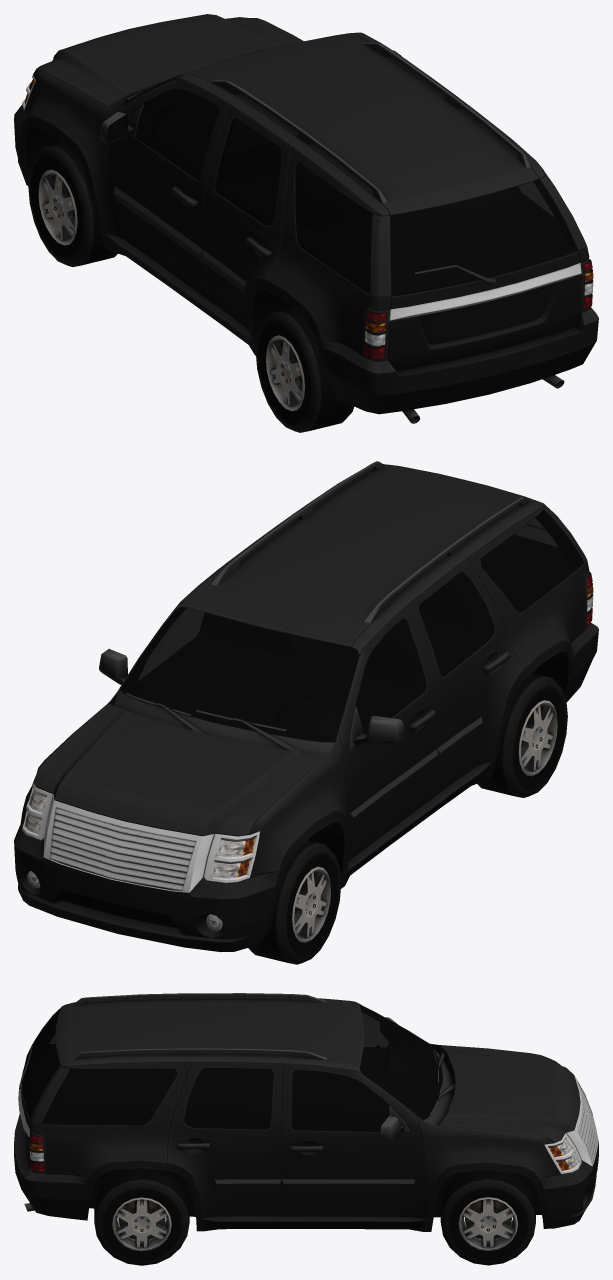
Rendered from suv.glb.
3 views of the same model, one above another, from view 1: azimuth 30°, elevation 25°; view 2: azimuth 150°, elevation 25°; view 3: azimuth 270°, elevation 25° (orthographic). The views are drawn at different scales.
Visible parts, largest first — view 1: Body, Wheel_RL, Wheel_FL; view 2: Body, Wheel_RL, Wheel_FL; view 3: Body, Wheel_RR, Wheel_FR.
Boxes of the visible parts, bbox=[...] form: Body: bbox=[14, 14, 598, 423]; Wheel_RL: bbox=[255, 308, 354, 432]; Wheel_FL: bbox=[28, 143, 117, 267]; Body: bbox=[14, 461, 598, 951]; Wheel_RL: bbox=[477, 673, 567, 797]; Wheel_FL: bbox=[248, 840, 341, 964]; Body: bbox=[14, 993, 598, 1231]; Wheel_RR: bbox=[94, 1168, 189, 1265]; Wheel_FR: bbox=[440, 1170, 535, 1265].
Bounding box in the file's own units: 2.07 × 1.73 × 4.61.
4 materials, 3 textured.
